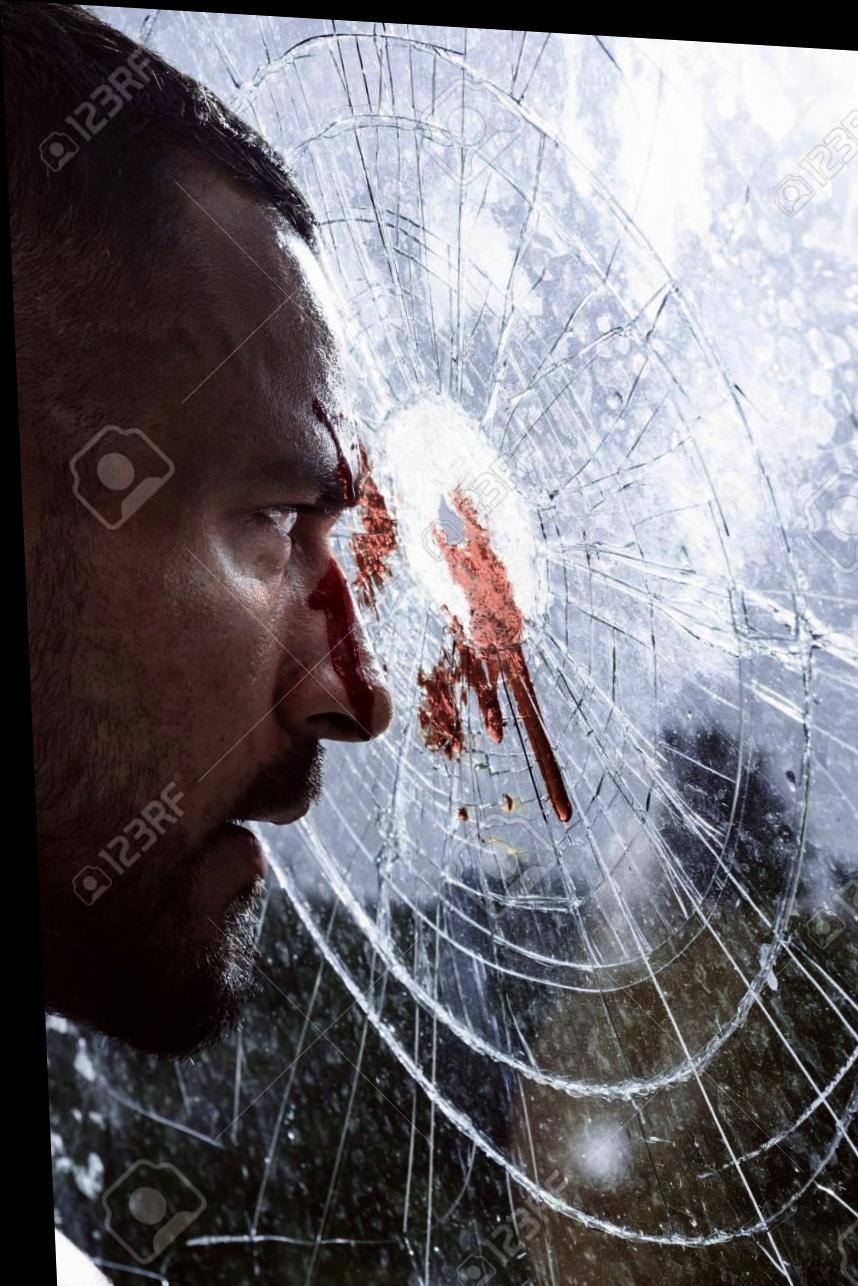Fire: (411, 481, 566, 815), (302, 555, 369, 735), (346, 433, 392, 580)
